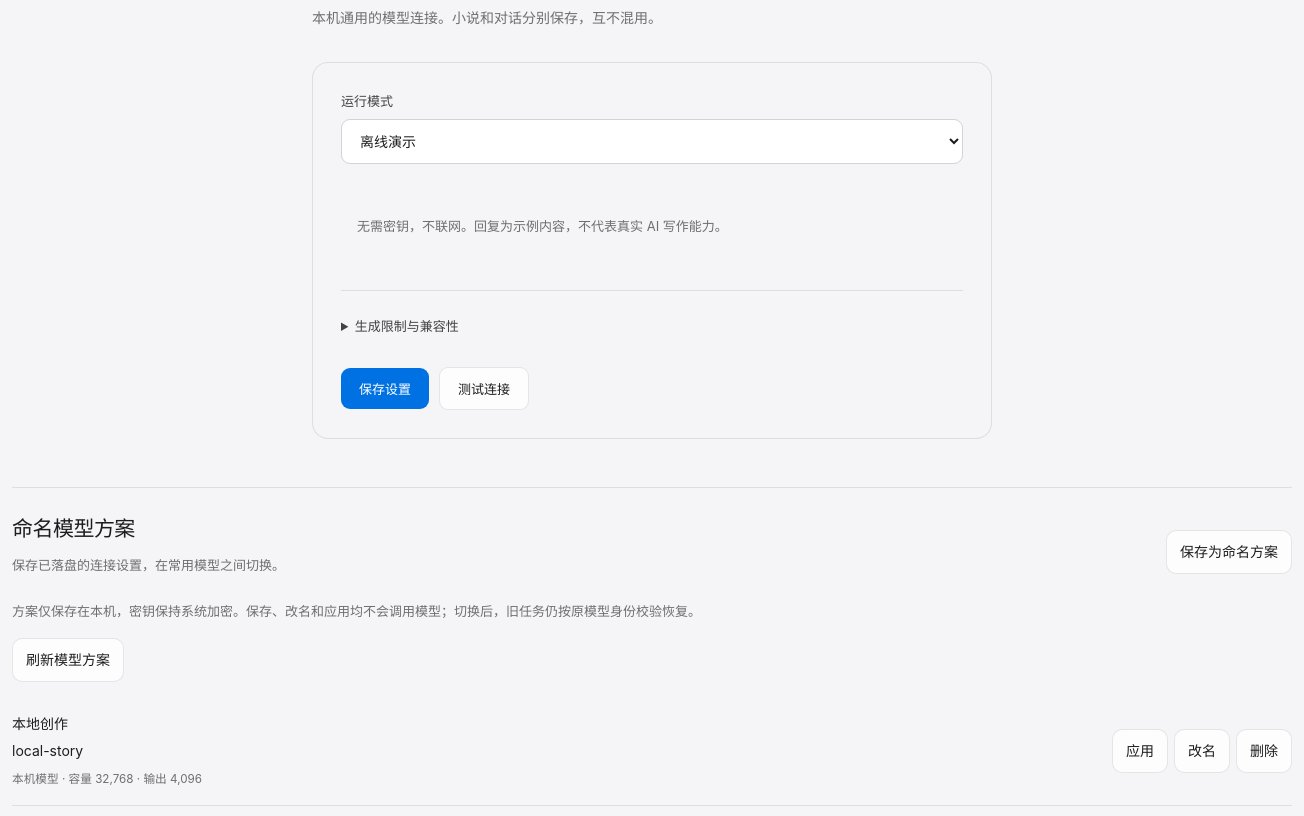
Test: preserves unsaved model form input and hydrates the form only after an explicit discard and apply
Expected: the text "本地创作" is shown, [12,715,68,732]
Click the heading "生成限制与兼容性".
click(407, 326)  # box [355,318,459,334]
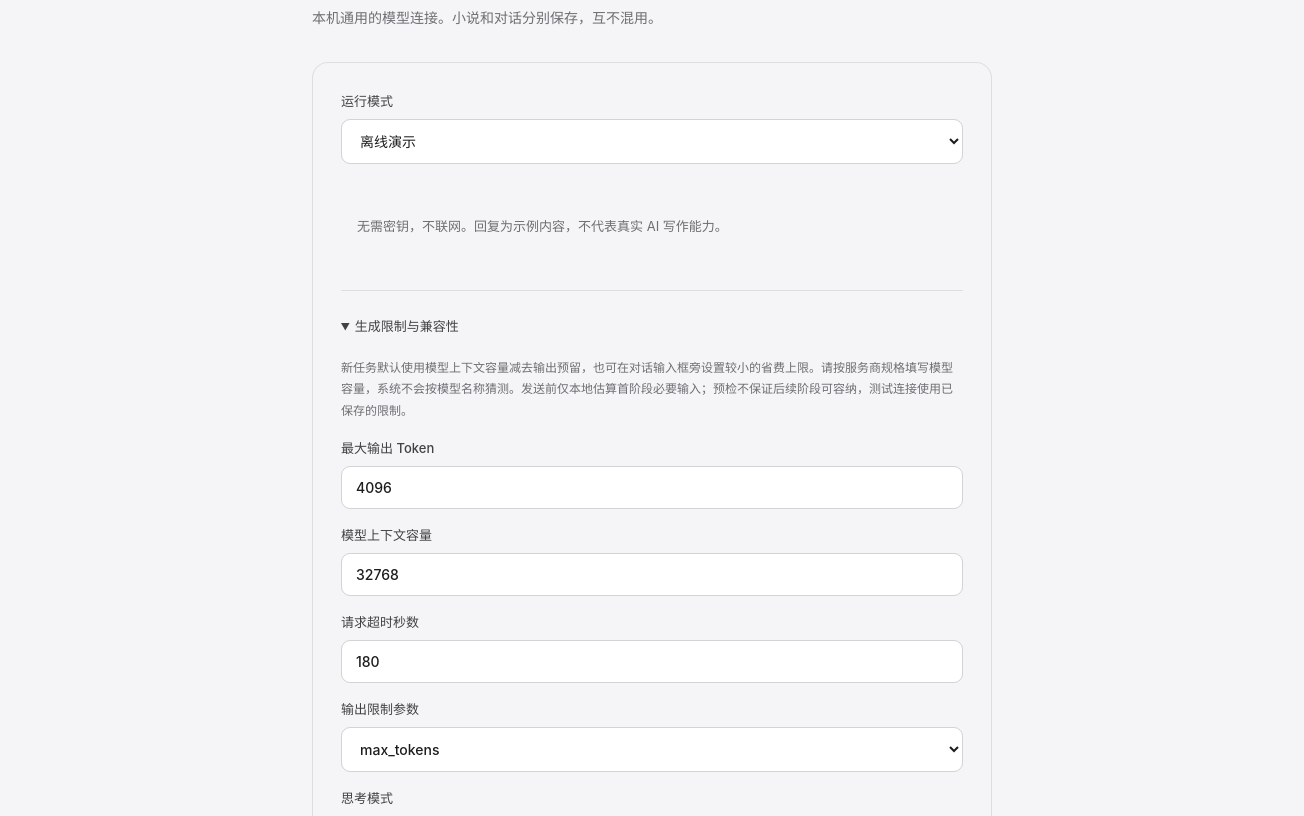
Replace the text in the number field labelled "模型上下文容量" with "65536" at (652, 574), box [341,553,963,596]
(page scrolled)
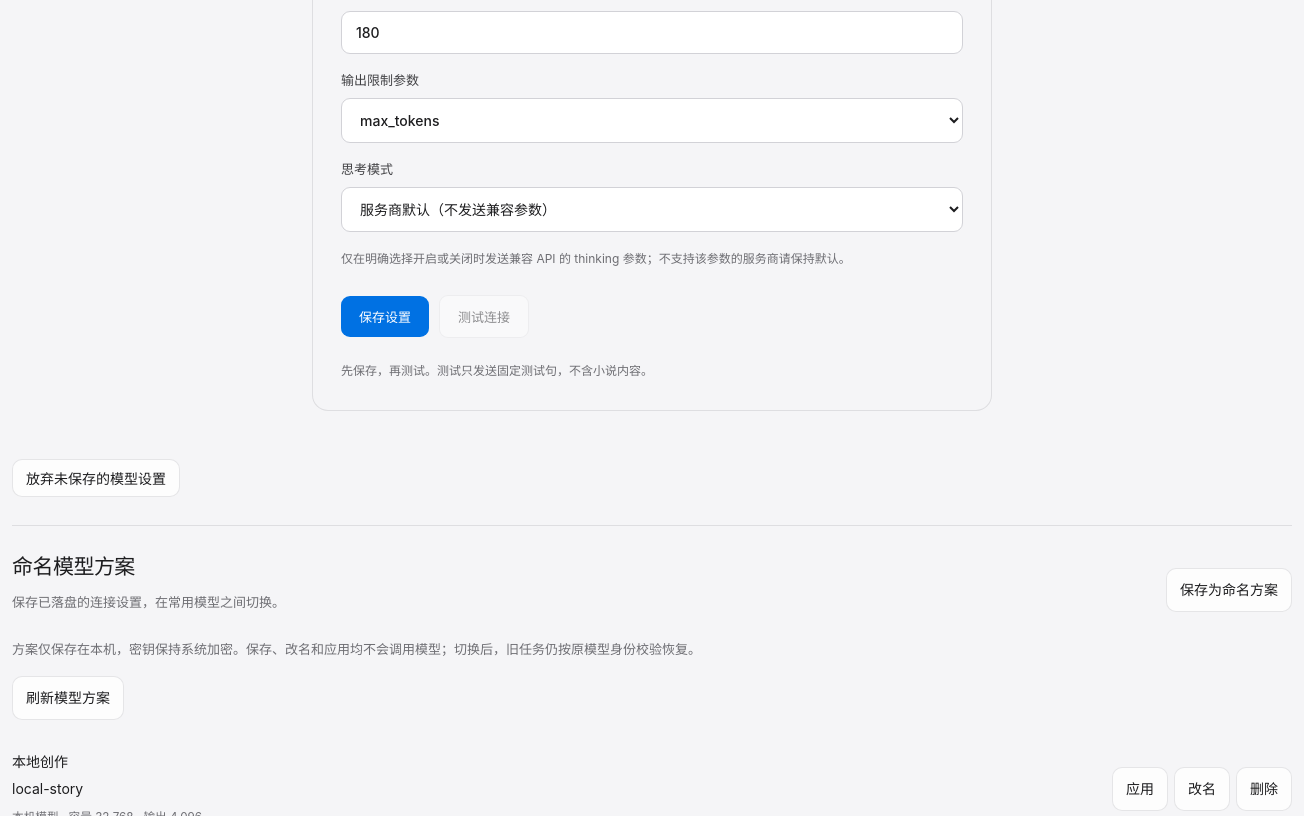
Click the button with aria-label "应用方案 本地创作".
click(1140, 789)  # box [1112,767,1168,811]
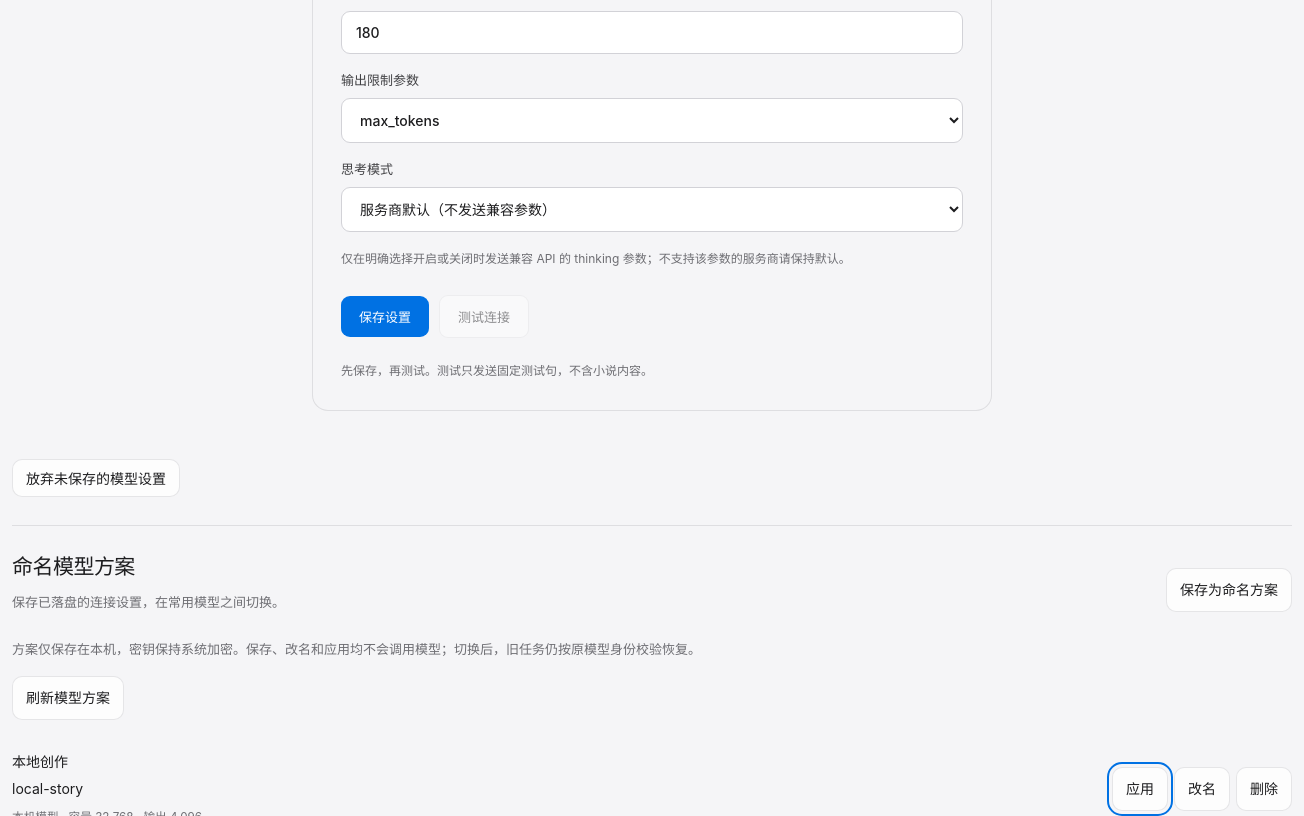
Click the button "放弃未保存的模型设置".
click(96, 478)  # box [12,459,180,497]
(page scrolled)
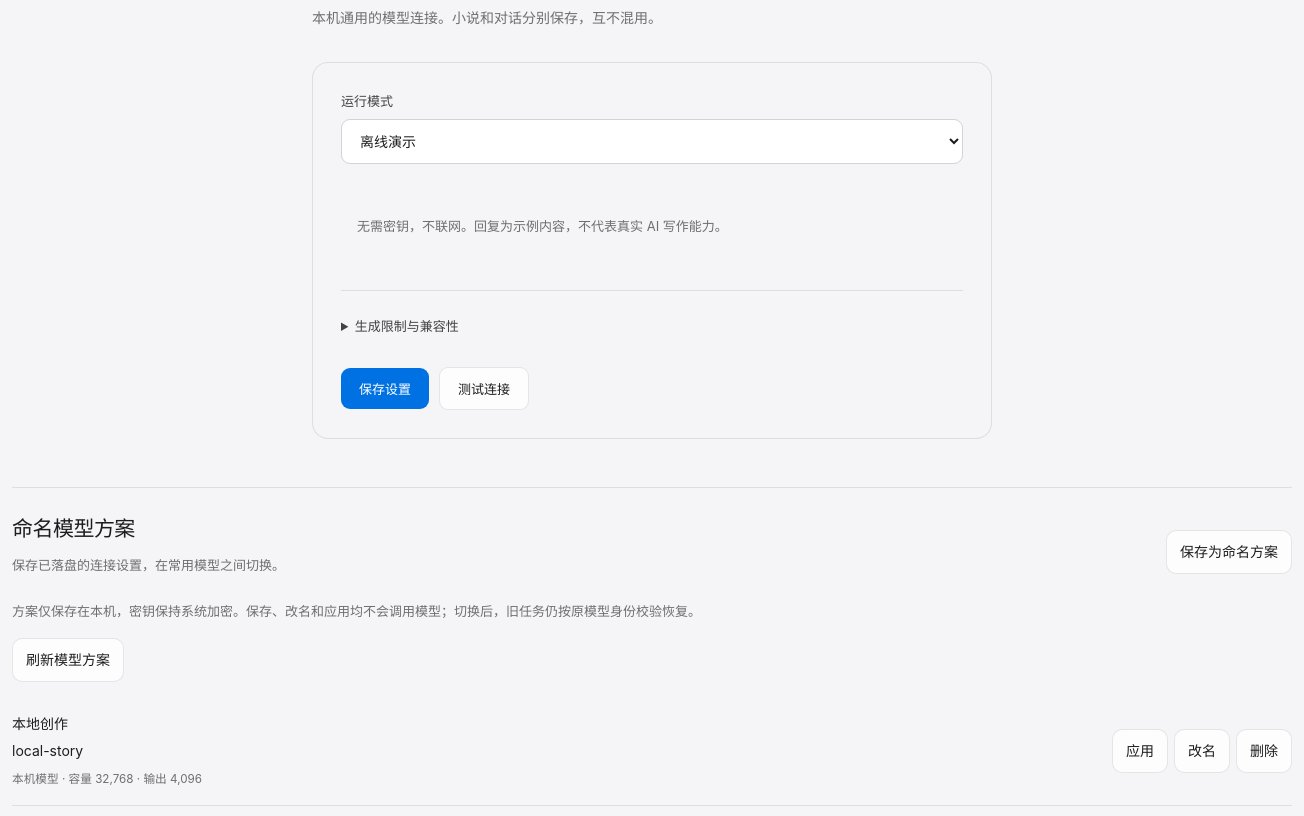
Click the button with aria-label "应用方案 本地创作".
click(1140, 751)  # box [1112,729,1168,773]
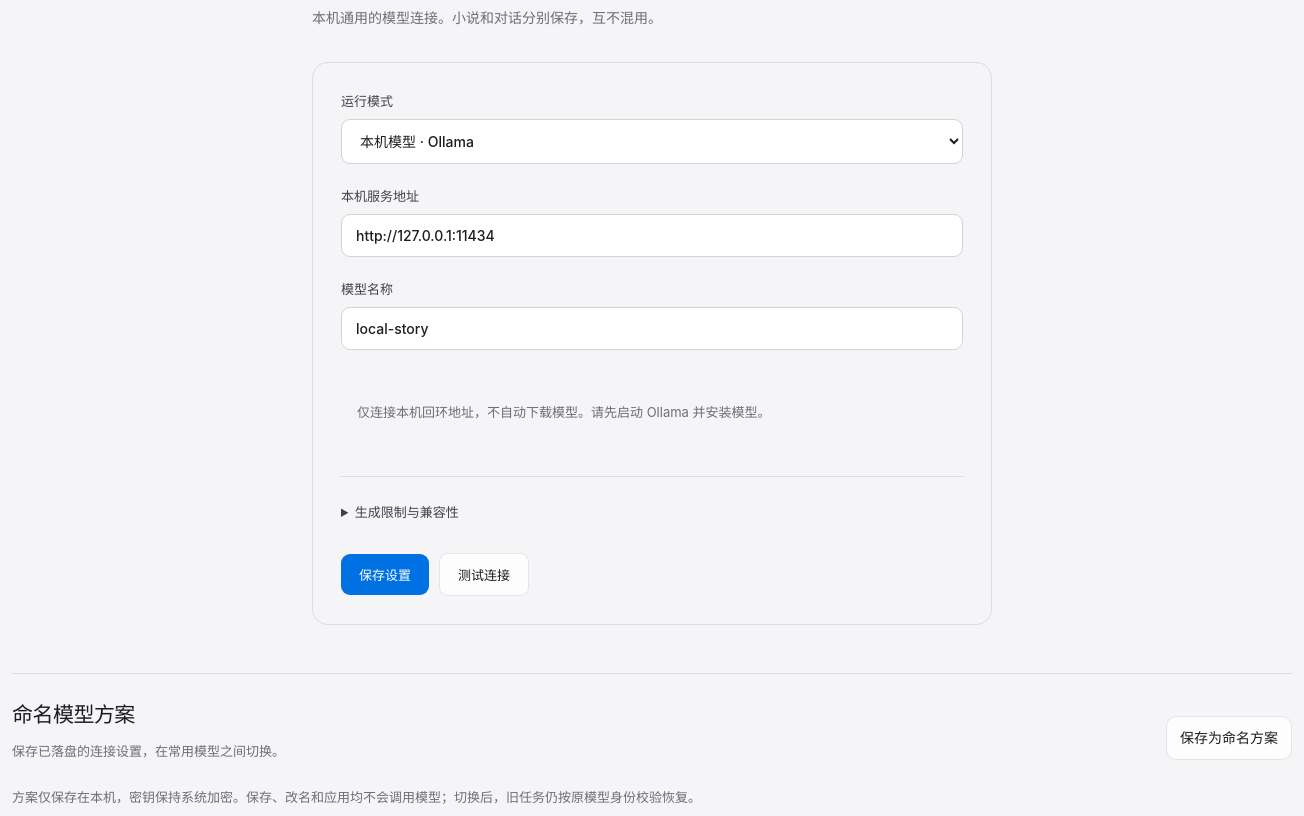
Expected: the dropdown labelled "运行模式" shows "本机模型 · Ollama", [341,119,963,164]
Expected: the field labelled "模型名称" holds "local-story", [341,307,963,350]
